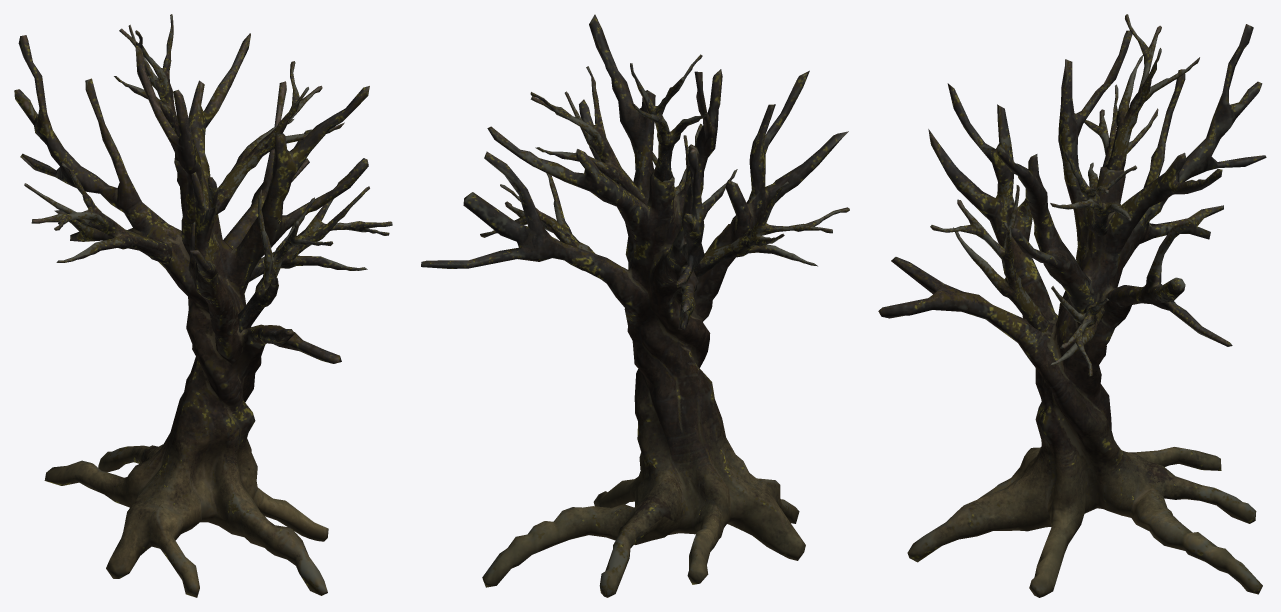
3 views of the same model, side by side, from view 1: azimuth 30°, elevation 25°; view 2: azimuth 150°, elevation 25°; view 3: azimuth 270°, elevation 25° (orthographic). The views are drawn at different scales.
Visible parts, largest first — view 1: tree2; view 2: tree2; view 3: tree2.
Boxes of the visible parts, x1,y1,x2,y2 form: tree2: (14,14,392,597); tree2: (421,14,849,597); tree2: (878,14,1266,597).
Bounding box in the file's own units: 333 × 465 × 318.
